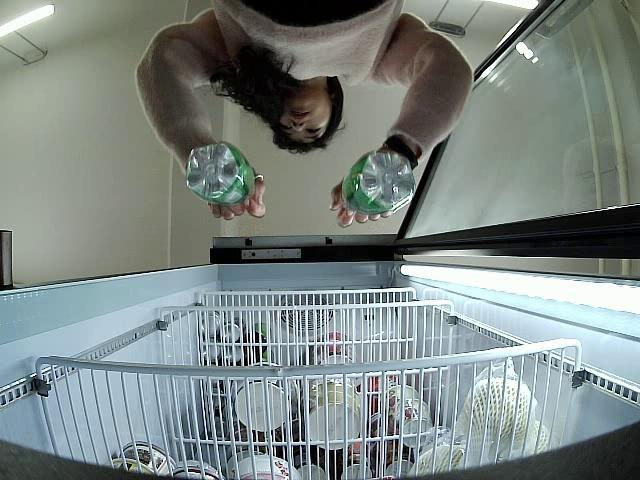18_trevi: (338, 148, 416, 216), (183, 142, 258, 208)
